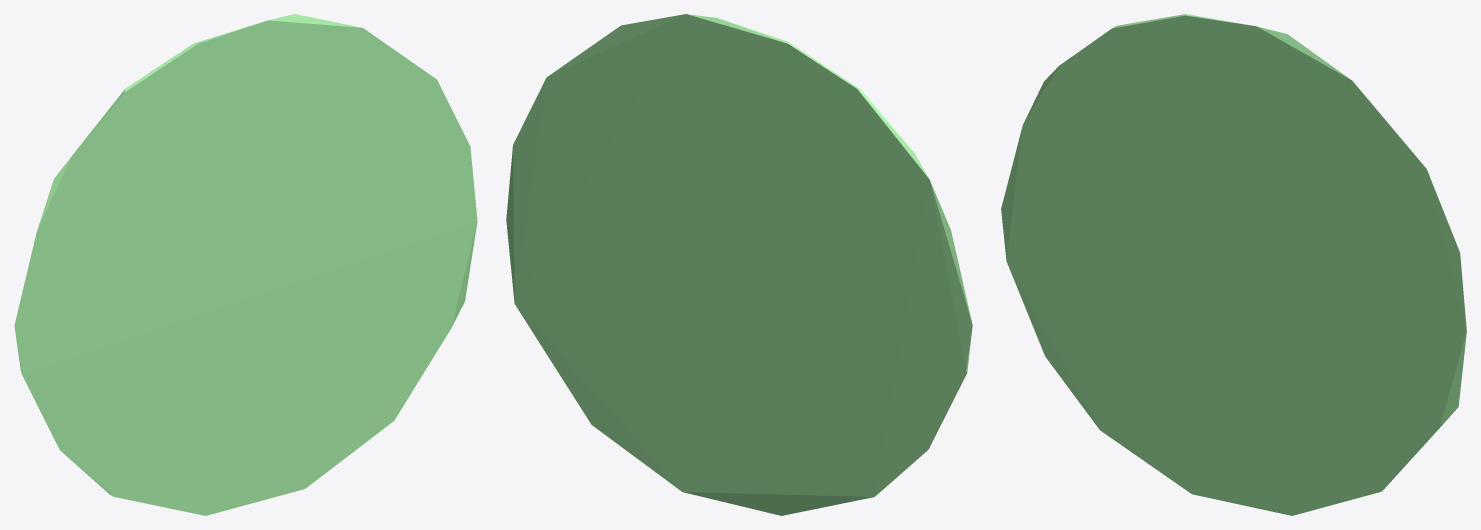
File: linkhou_LR4_R560_link6_respondable_coll_1.dae
The picture shows the model from 3 angles, left to right: view 1: azimuth 30°, elevation 25°; view 2: azimuth 150°, elevation 25°; view 3: azimuth 330°, elevation 25°; orthographic projection.
Visible parts, largest first — view 1: Node_00000209DB3AA780; view 2: Node_00000209DB3AA780; view 3: Node_00000209DB3AA780.
Boxes of the visible parts, bbox=[...] form: Node_00000209DB3AA780: bbox=[14, 14, 477, 515]; Node_00000209DB3AA780: bbox=[506, 14, 972, 515]; Node_00000209DB3AA780: bbox=[1001, 14, 1466, 515].
Size of the model in its own units: 0.0553 by 0.0547 by 0.000614.
